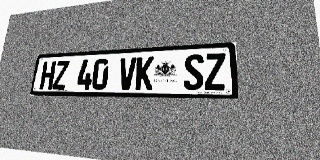0: (91, 58, 109, 90)
4: (76, 59, 94, 90)
H: (39, 61, 56, 90)
K: (135, 56, 154, 90)
S: (183, 54, 204, 90)
V: (118, 57, 137, 90)
Z: (204, 53, 226, 90), (52, 60, 69, 90)
